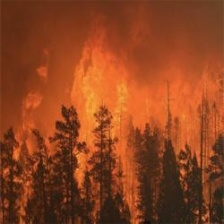fire: (67, 51, 133, 180)
